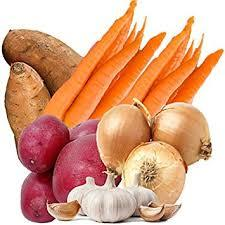Organic: (2, 5, 225, 225)
